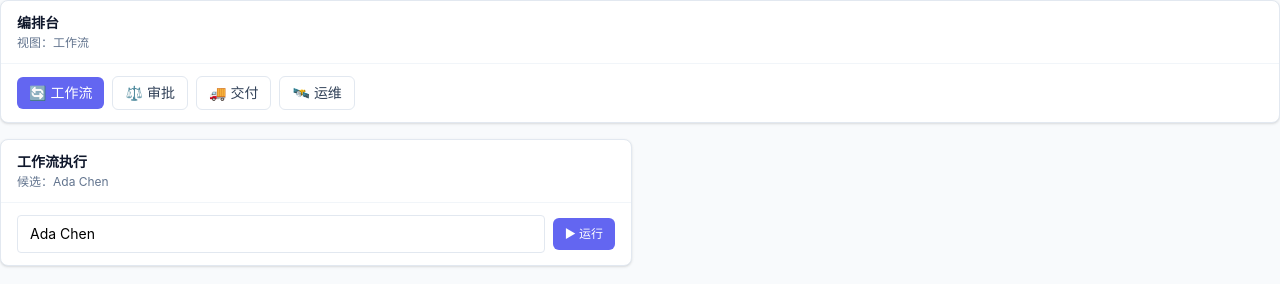
it: V132 OrchestrationProvider shared › all 4 panels share same provider state
This screenshot has width=1280, height=284.
Expected: the element with test id "workflow-panel" is shown, [0, 139, 632, 266]
switch to delivery
Click the tab with test id "shell-tab-delivery": coordinates (234, 93) [196, 76, 271, 110]
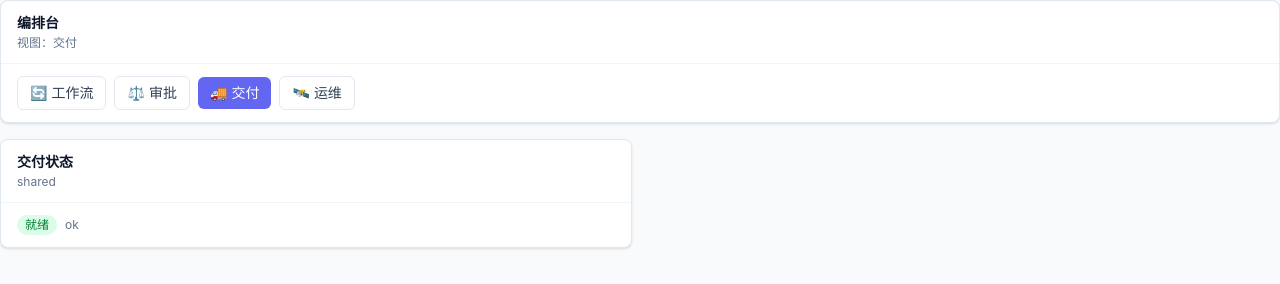
Result: the text "就绪" is shown at [25, 217, 49, 233]
